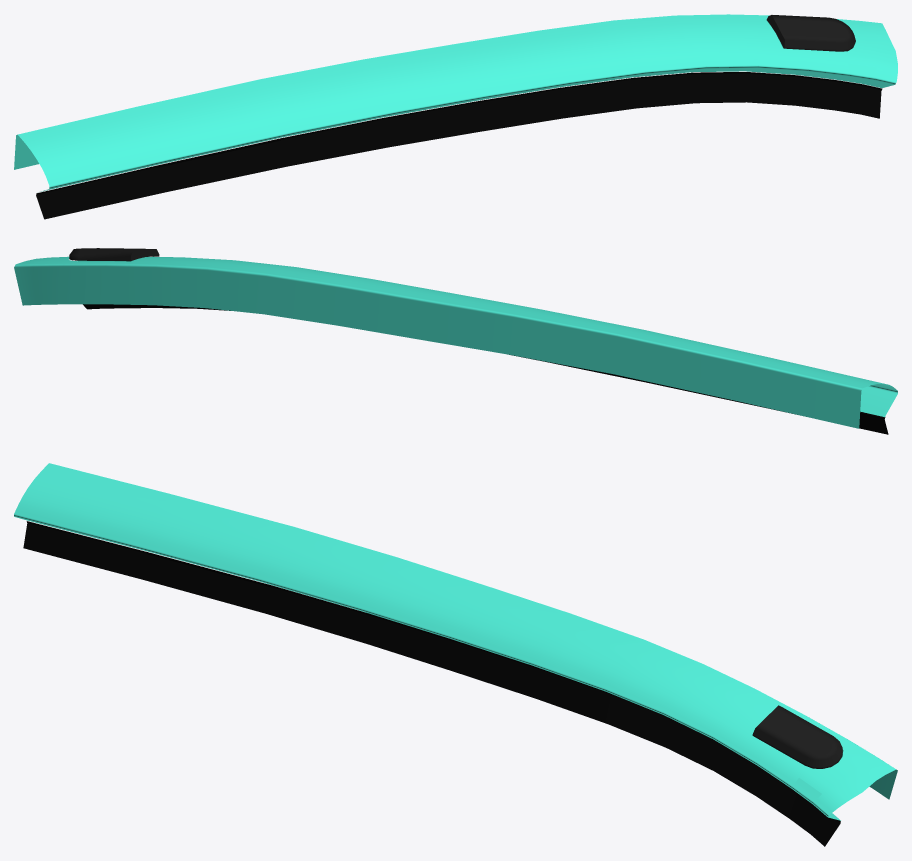
3 renders of one model, top to bottom at view 1: azimuth 30°, elevation 25°; view 2: azimuth 150°, elevation 25°; view 3: azimuth 330°, elevation 25°, orthographic.
Visible parts, largest first — view 1: H025_10_18A5_R_H025_10_18A5_R_1_DaS, H025_10_18A5_R_H025_10_18A5_R_3_D, H025_10_18A5_R_2_D_H025_10_18A5_R; view 2: H025_10_18A5_R_H025_10_18A5_R_1_DaS, H025_10_18A5_R_H025_10_18A5_R_3_D, H025_10_18A5_R_2_D_H025_10_18A5_R; view 3: H025_10_18A5_R_H025_10_18A5_R_1_DaS, H025_10_18A5_R_H025_10_18A5_R_3_D, H025_10_18A5_R_2_D_H025_10_18A5_R.
Part boxes in pixels (<box>): H025_10_18A5_R_H025_10_18A5_R_1_DaS: <box>14,14,897,191</box>; H025_10_18A5_R_H025_10_18A5_R_3_D: <box>36,72,882,219</box>; H025_10_18A5_R_2_D_H025_10_18A5_R: <box>766,15,855,51</box>; H025_10_18A5_R_H025_10_18A5_R_1_DaS: <box>14,256,897,428</box>; H025_10_18A5_R_H025_10_18A5_R_3_D: <box>83,304,888,434</box>; H025_10_18A5_R_2_D_H025_10_18A5_R: <box>69,248,159,261</box>; H025_10_18A5_R_H025_10_18A5_R_1_DaS: <box>14,463,897,820</box>; H025_10_18A5_R_H025_10_18A5_R_3_D: <box>23,521,840,846</box>; H025_10_18A5_R_2_D_H025_10_18A5_R: <box>752,705,842,768</box>.
Size of the model in its own units: 79.37 by 13.49 by 8.65.
